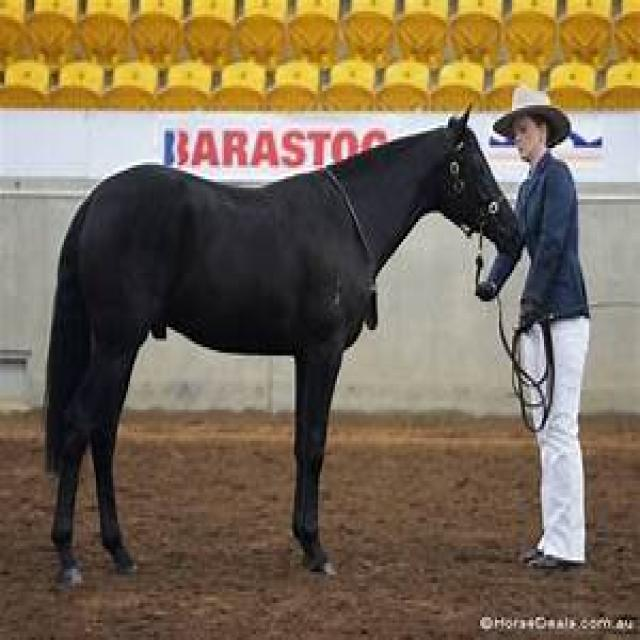horse: (43, 117, 525, 594)
